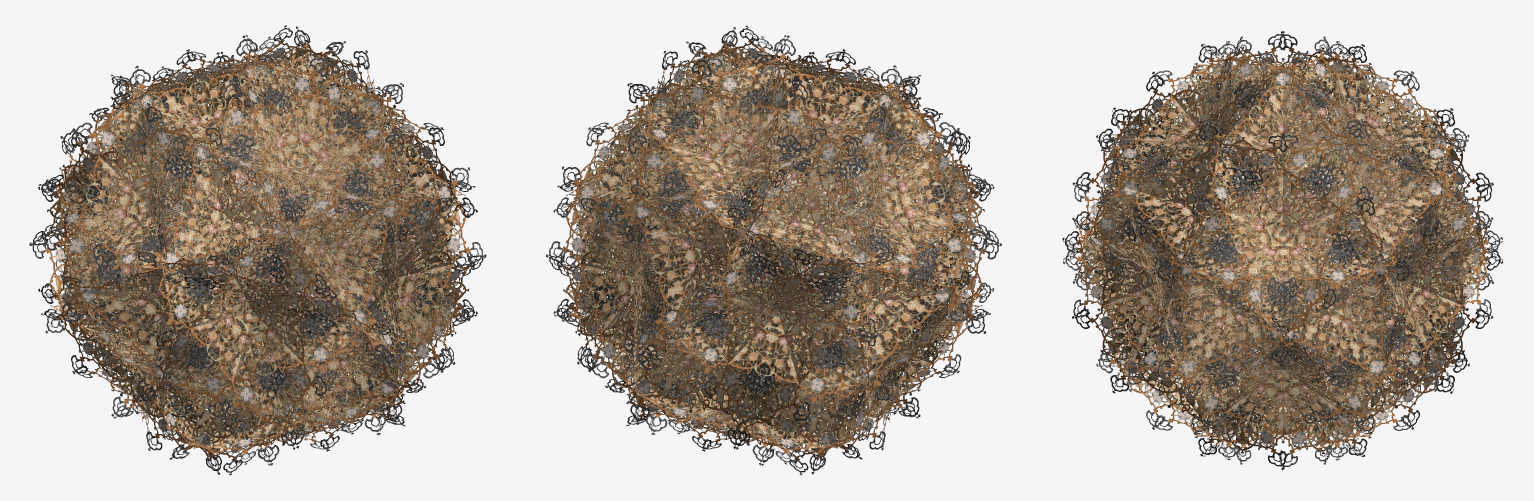
Rendered from GreatDodecicosahedron3.gltf.
3 renders of one model, left to right at view 1: azimuth 30°, elevation 25°; view 2: azimuth 150°, elevation 25°; view 3: azimuth 270°, elevation 25°, orthographic. The views are drawn at different scales.
Visible parts, largest first — view 1: GreatDodecicosahedron; view 2: GreatDodecicosahedron; view 3: GreatDodecicosahedron.
Part boxes in pixels (x1,y1,x2,y2): GreatDodecicosahedron: (29,25,486,475); GreatDodecicosahedron: (546,25,1001,474); GreatDodecicosahedron: (1062,31,1503,470).
Bounding box in the file's own units: 2.24 × 2.24 × 2.24.
Materials: 1 (1 with a texture image).
